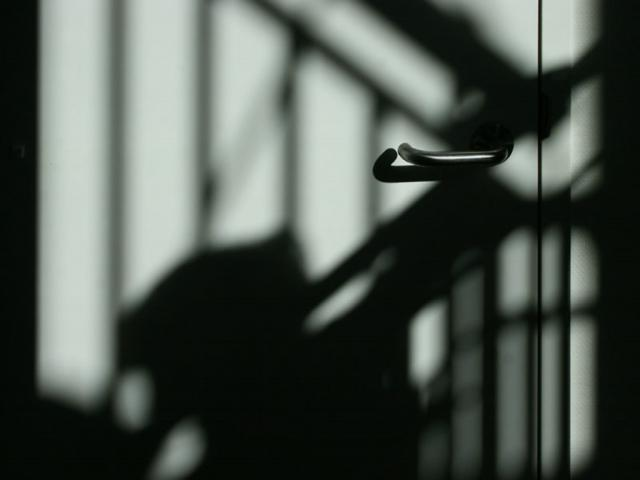Door-handle: (398, 120, 514, 171)
